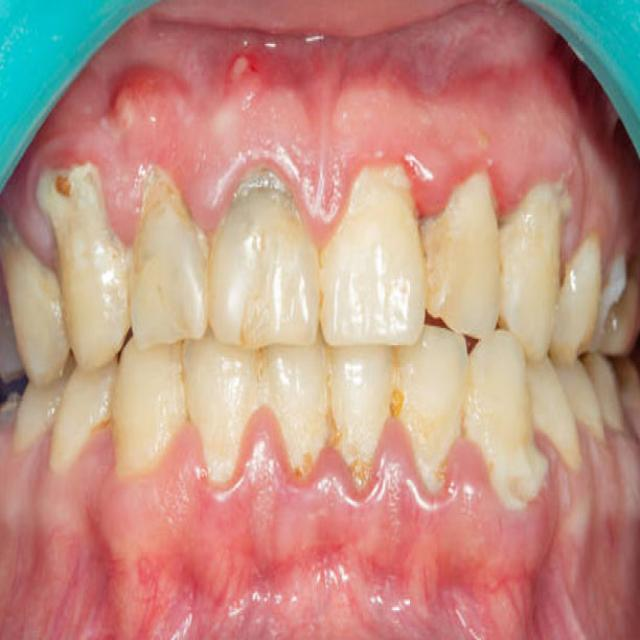caries: (586, 253, 634, 362), (0, 354, 41, 434)
